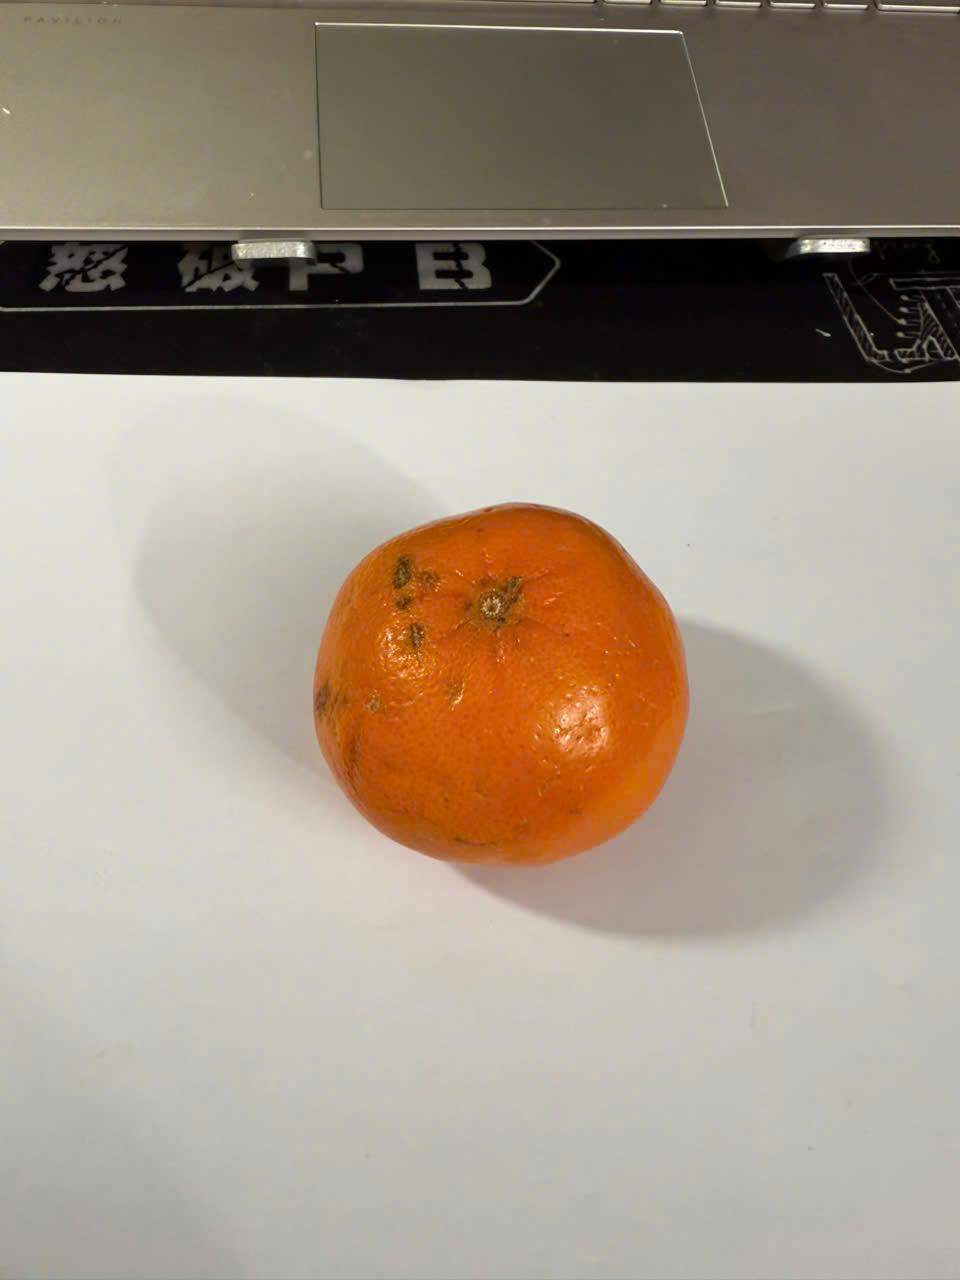orange: (295, 473, 730, 890)
